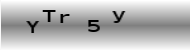5: (86, 18, 101, 32)
T: (42, 9, 56, 22)
Y: (26, 20, 39, 33)
r: (58, 12, 70, 23)
y: (111, 10, 126, 24)
